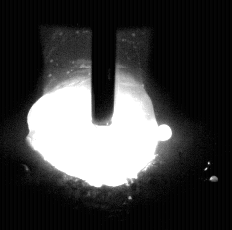arame: (92, 0, 116, 126)
poca: (27, 0, 160, 230)
